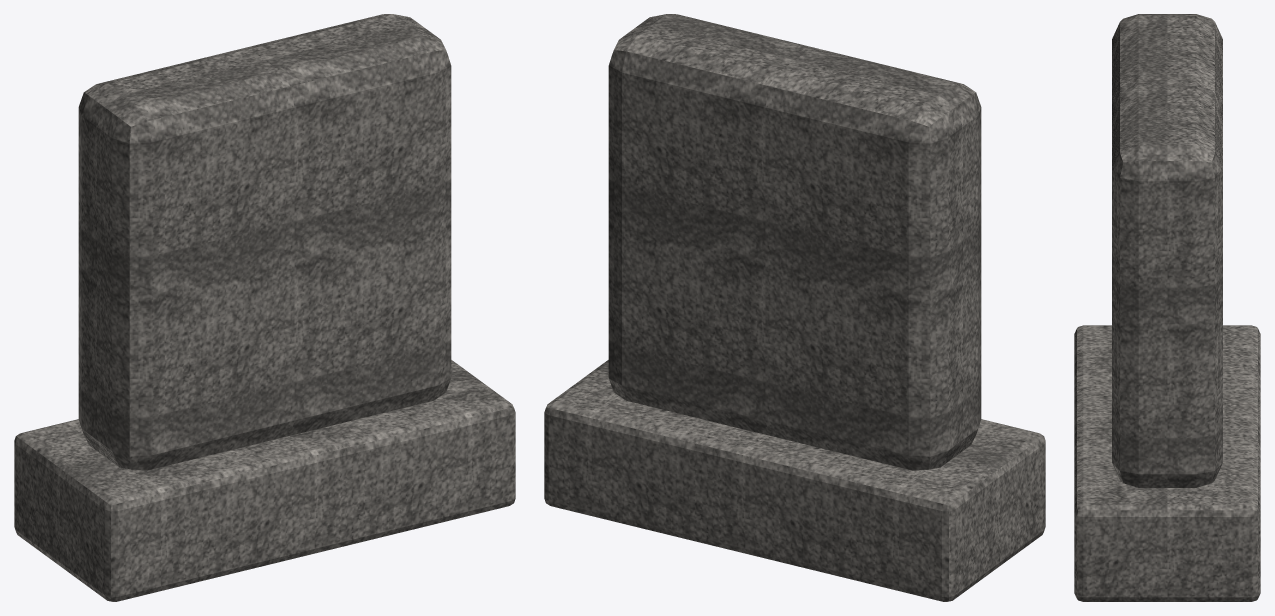
Rendered from headstone.glb.
3 renders of one model, left to right at view 1: azimuth 30°, elevation 25°; view 2: azimuth 150°, elevation 25°; view 3: azimuth 270°, elevation 25°, orthographic. The views are drawn at different scales.
Visible parts, largest first — view 1: headstone; view 2: headstone; view 3: headstone.
Part boxes in pixels (<box>): headstone: <box>14,14,515,601</box>; headstone: <box>544,14,1045,601</box>; headstone: <box>1074,14,1260,601</box>.
Size of the model in its own units: 1 by 1.07 by 0.42.
Materials: 1 (1 with a texture image).
